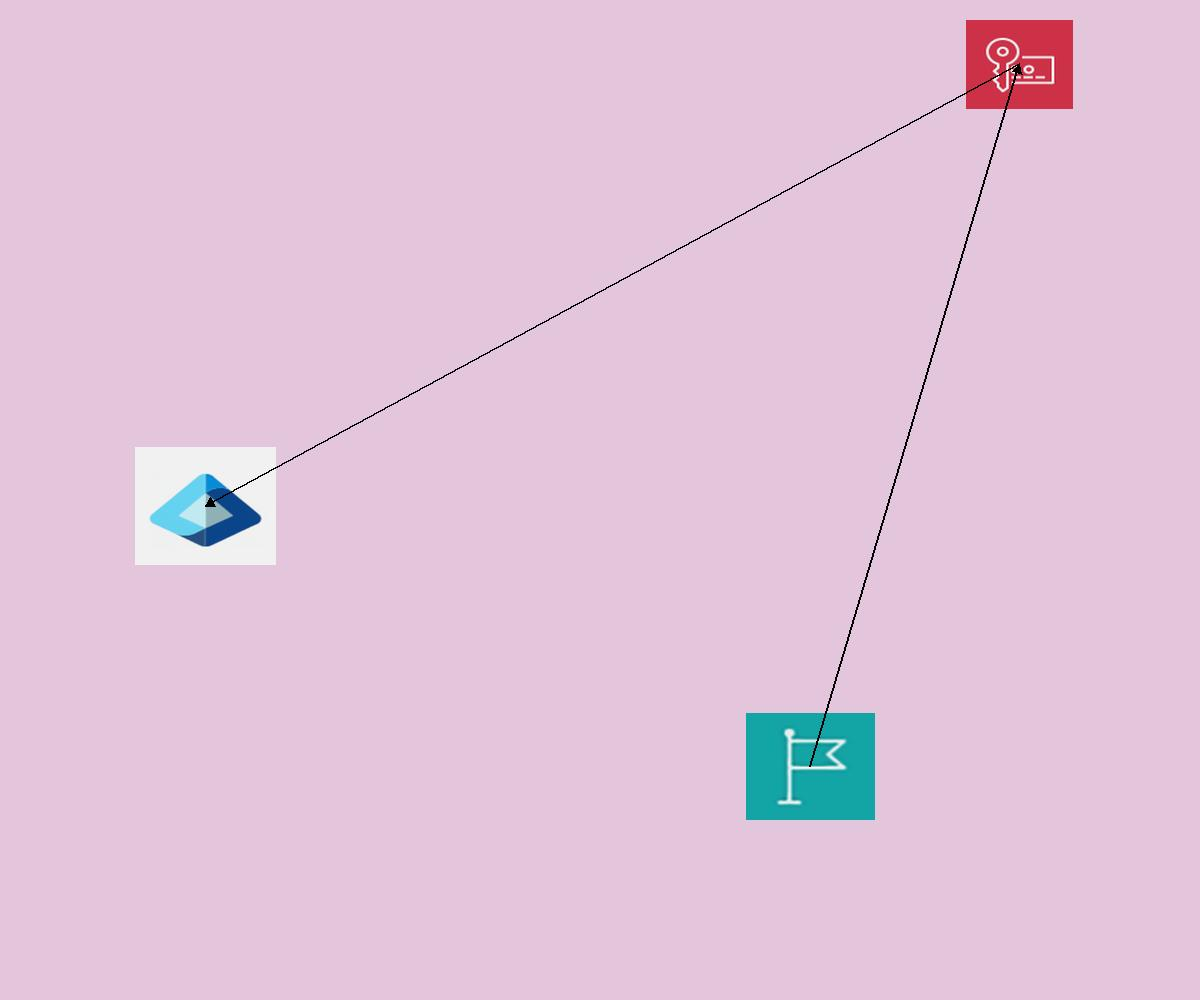AWS-Key-Management-Service: (966, 20, 1073, 109)
AWS-Region: (746, 713, 875, 820)
Azure_microsoft_entra: (135, 447, 276, 565)
